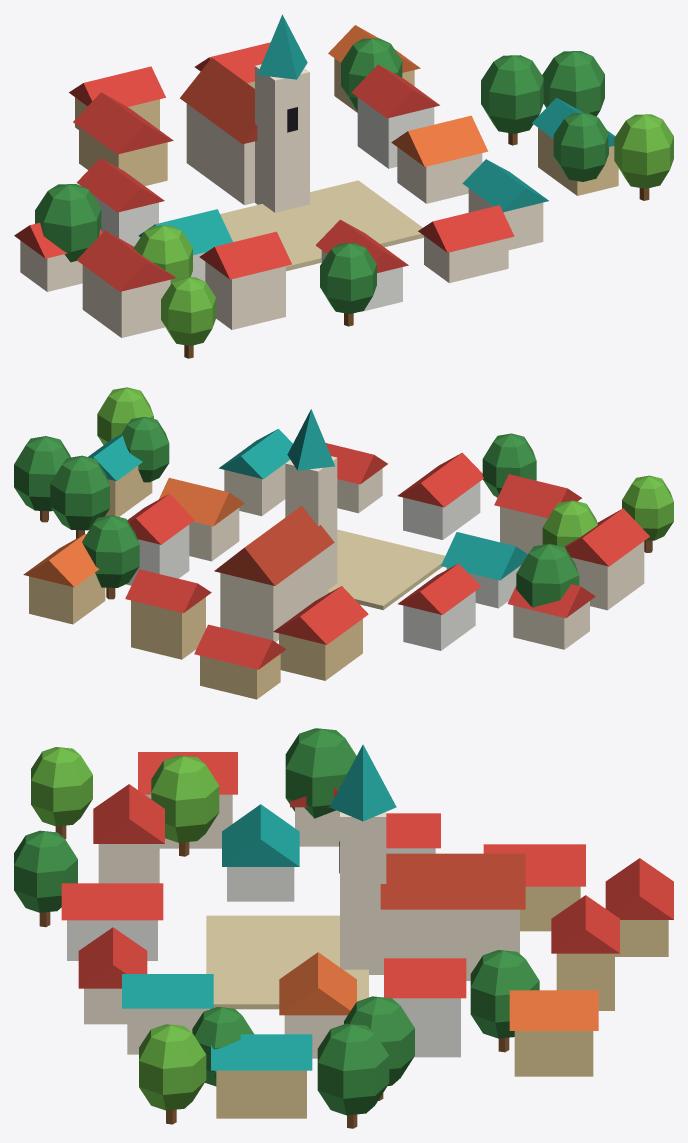
The model's file is Pueblo.fbx.
3 views of the same model, one above another, from view 1: azimuth 30°, elevation 25°; view 2: azimuth 150°, elevation 25°; view 3: azimuth 270°, elevation 25° (orthographic). The views are drawn at different scales.
Parts seen in each view (by area): view 1: Pueblo; view 2: Pueblo; view 3: Pueblo.
Part boxes in pixels (<box>): Pueblo: <box>14,14,673,358</box>; Pueblo: <box>14,387,673,699</box>; Pueblo: <box>14,728,673,1128</box>.
Bounding box in the file's own units: 66.78 × 21 × 56.8.
Materials: 1 (1 with a texture image).
